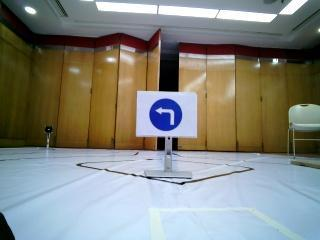left: (142, 95, 202, 141)
